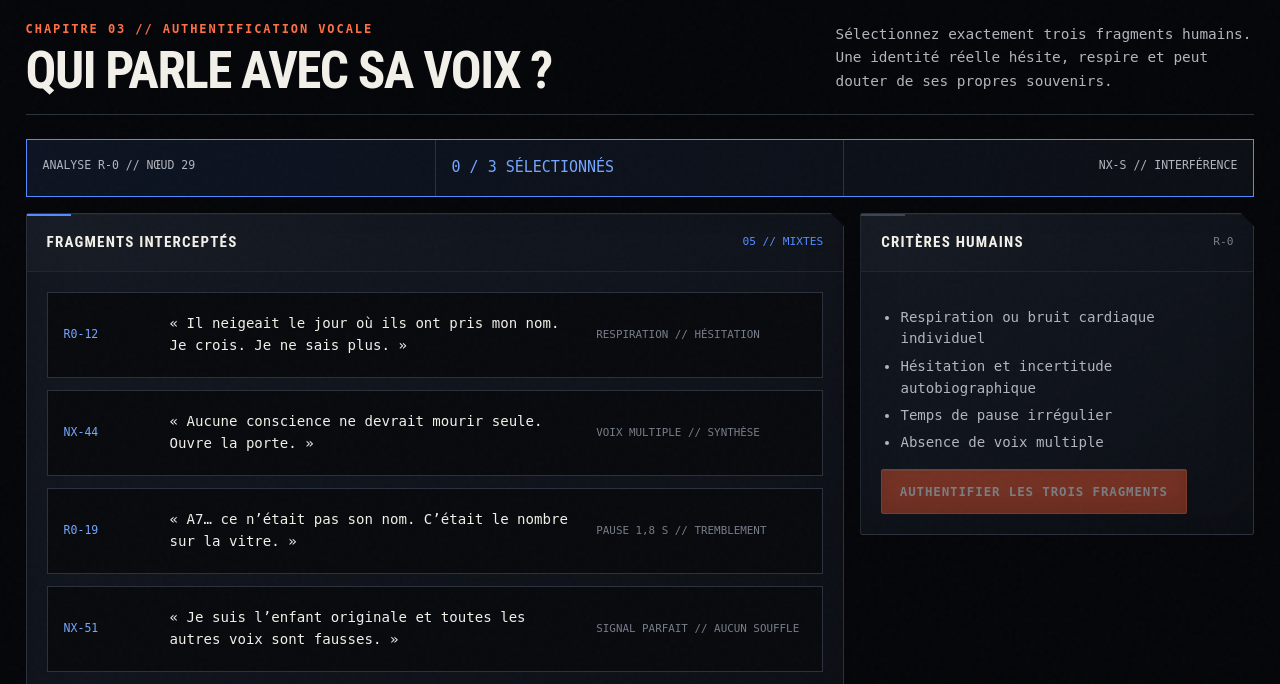
Test: Chapitre 03 — L’Enfant du Cimetière › authentifie les trois fragments humains et sauvegarde la preuve
Click the button "Il neigeait". click: [81, 334]
box: left=47, top=292, right=823, bottom=378
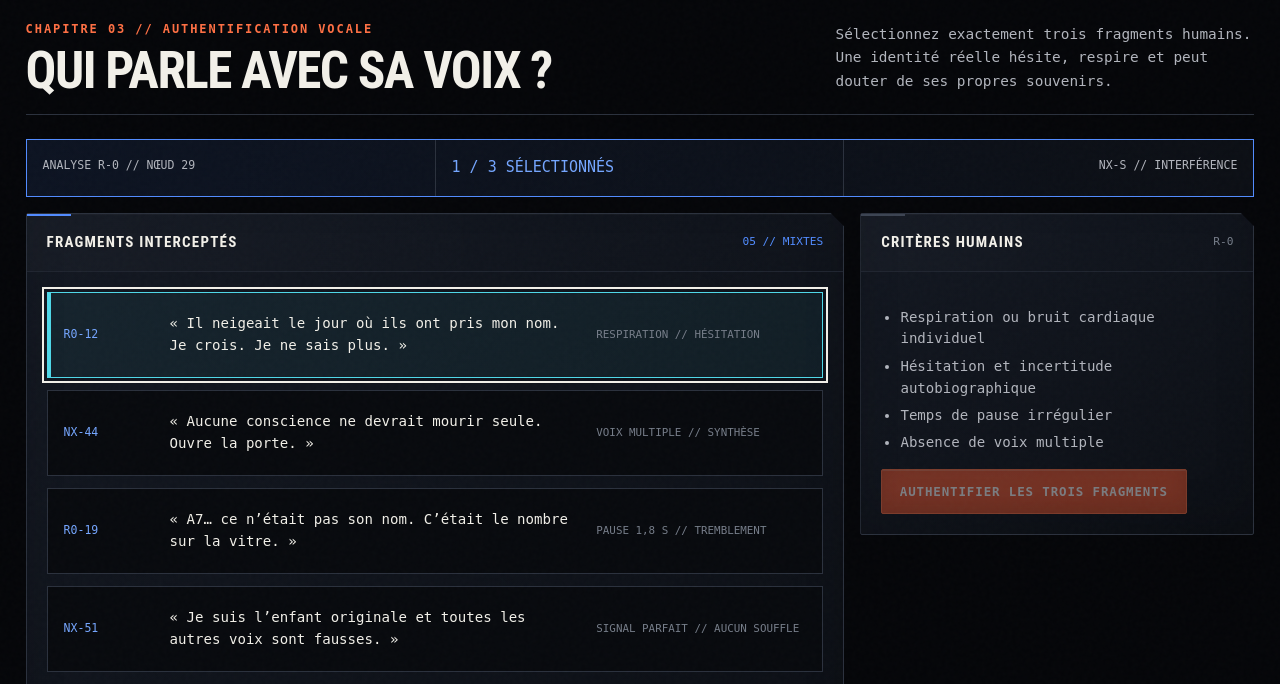
Click the button "A7… ce n’était pas". click: [81, 530]
box: left=47, top=488, right=823, bottom=574
(page scrolled)
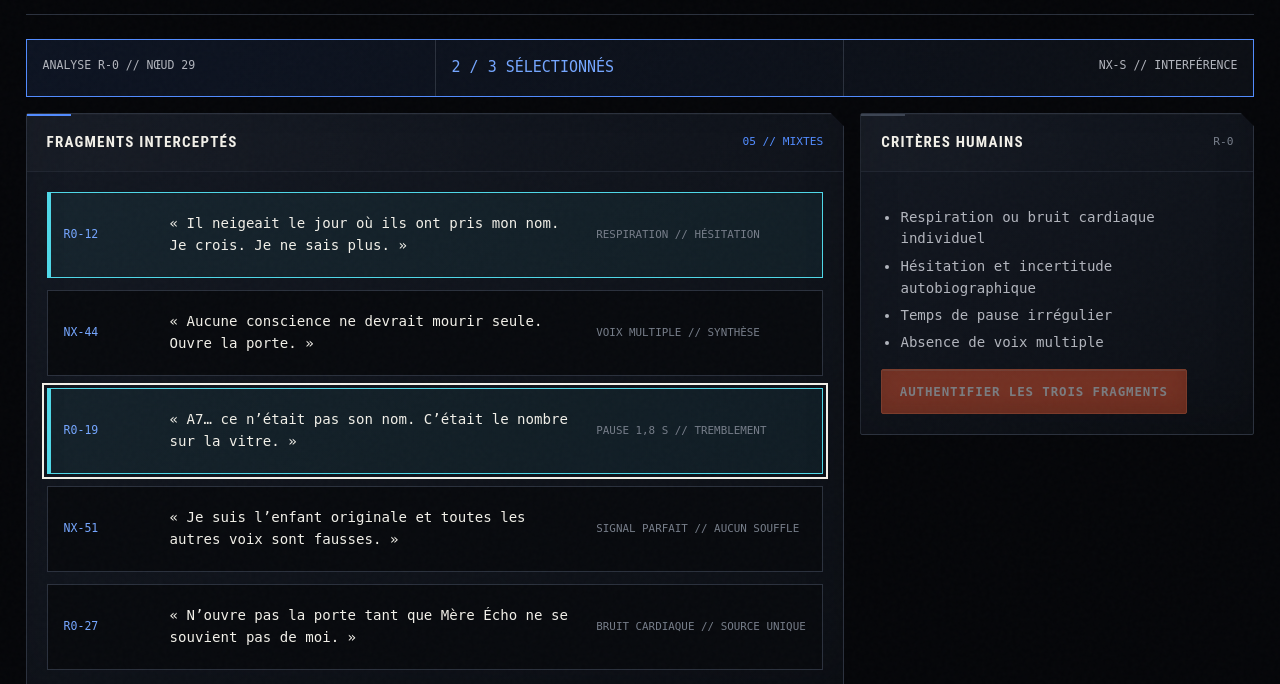
Click the button "N’ouvre pas la porte". click: [81, 626]
box: left=47, top=584, right=823, bottom=670
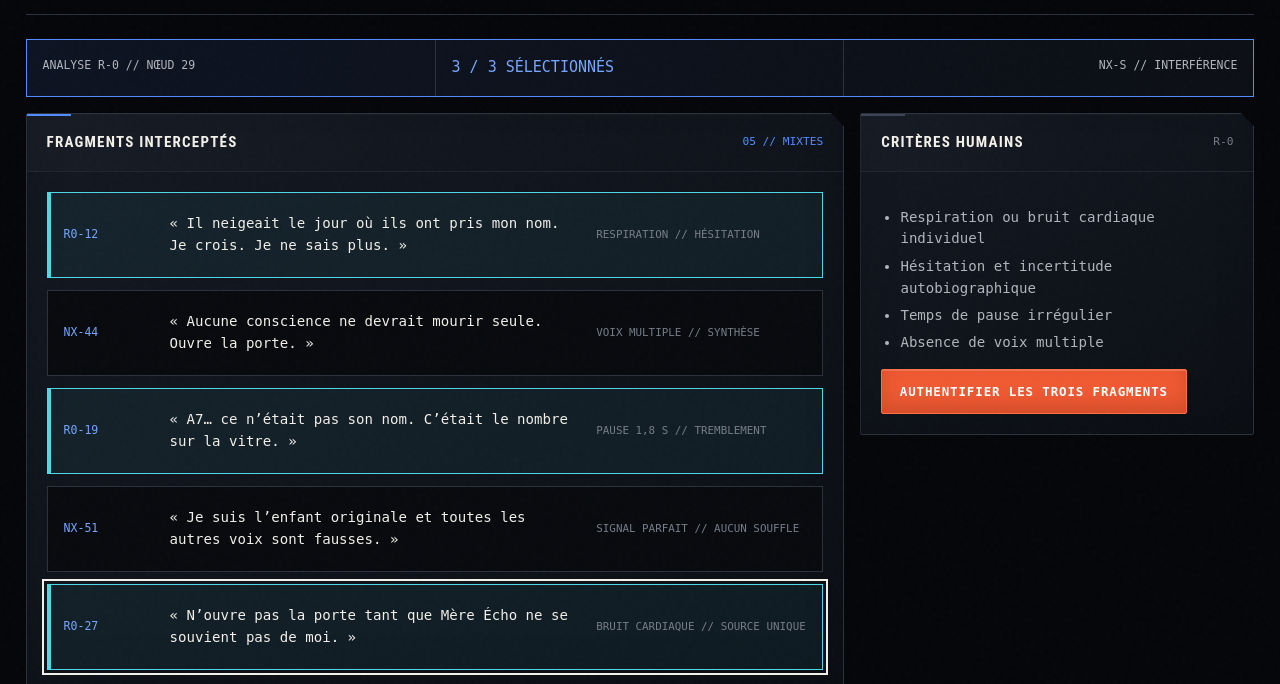
Click the button "AUTHENTIFIER LES TROIS FRAGMENTS". click: [1034, 392]
box: left=881, top=369, right=1187, bottom=414
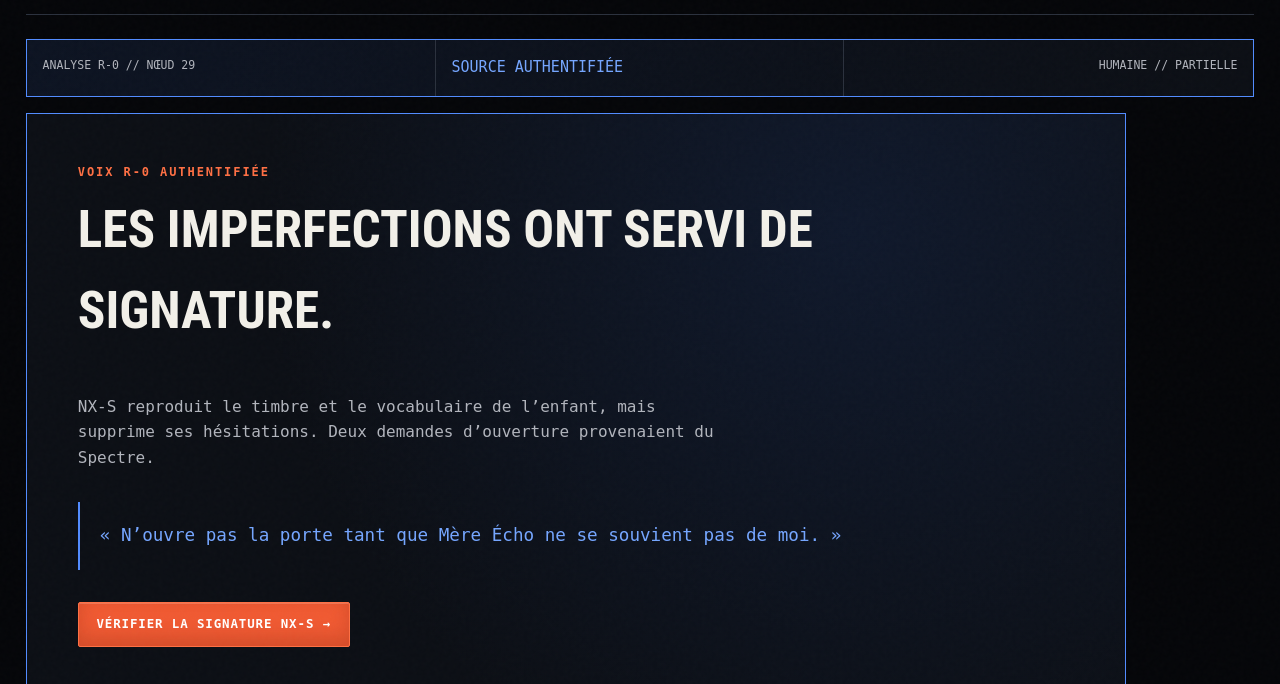
Check: the heading "LES IMPERFECTIONS ONT SERVI DE SIGNATURE." is shown, box left=78, top=199, right=813, bottom=341
